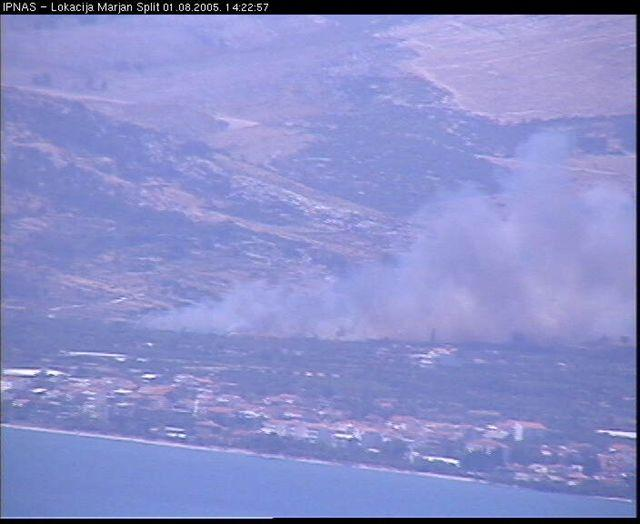Smoke: (124, 124, 635, 340)
